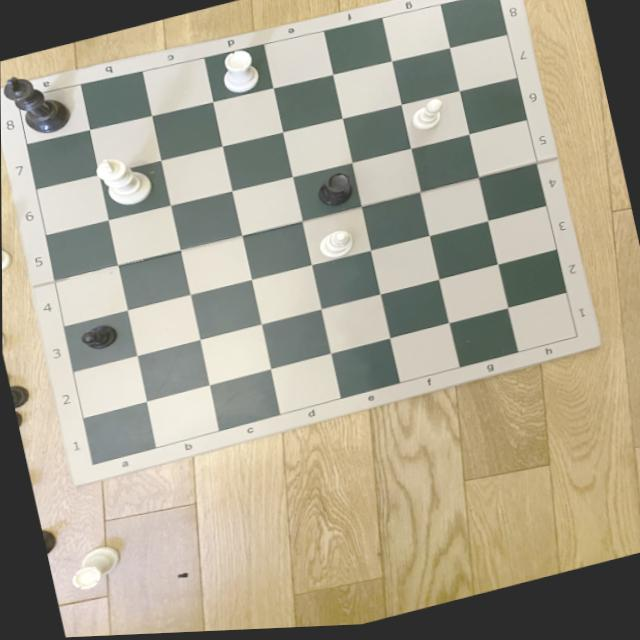Chessboard-Corners: (84, 455, 100, 471), (572, 336, 583, 346), (489, 0, 505, 3)
